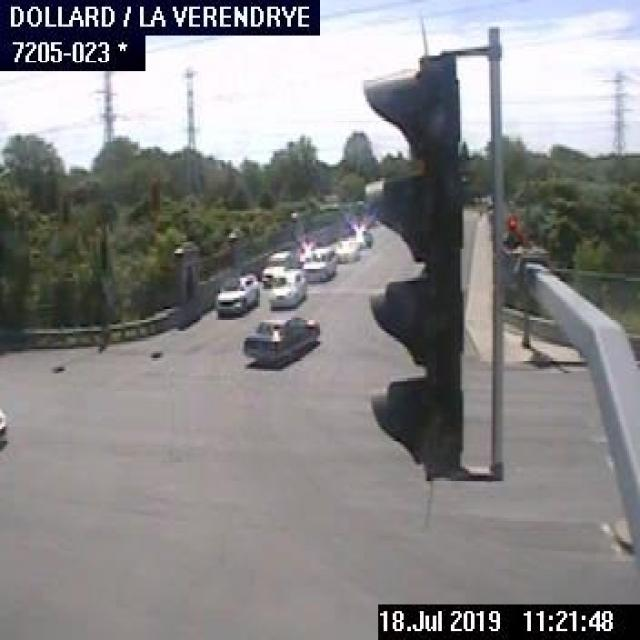vehicle: (238, 310, 322, 362), (212, 270, 260, 316), (264, 264, 306, 312), (302, 244, 339, 284), (257, 248, 295, 285), (331, 232, 362, 264), (0, 406, 7, 444)
